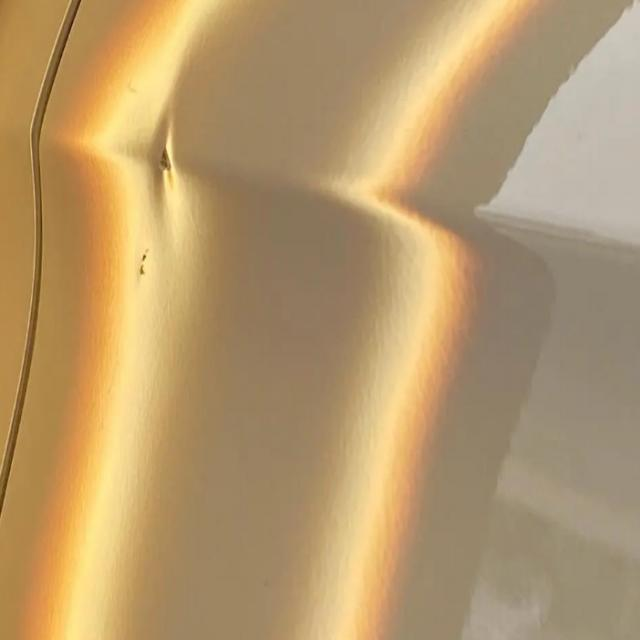dents: (119, 111, 233, 301)
